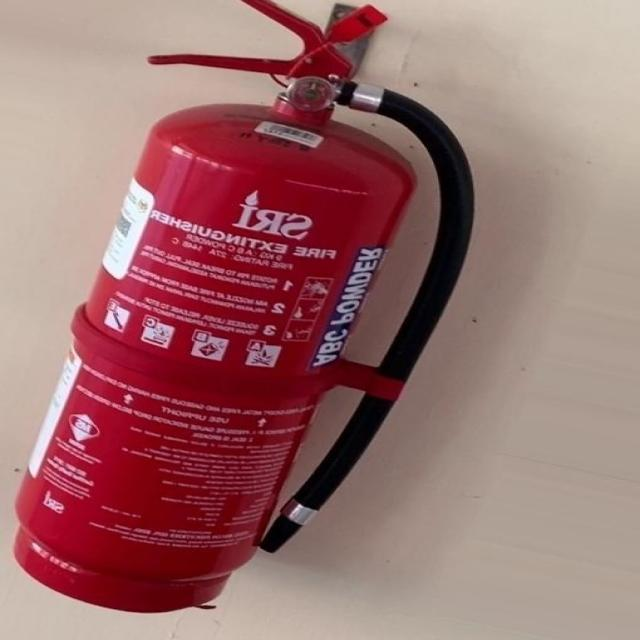fire_extinguisher: (0, 0, 480, 616)
